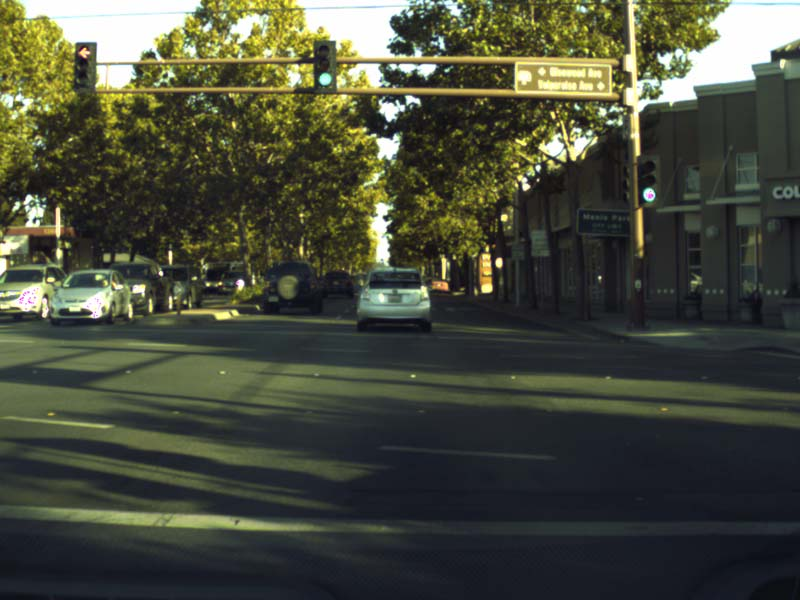Green: (638, 156, 657, 205), (313, 42, 333, 88)
Red: (75, 41, 92, 89)
